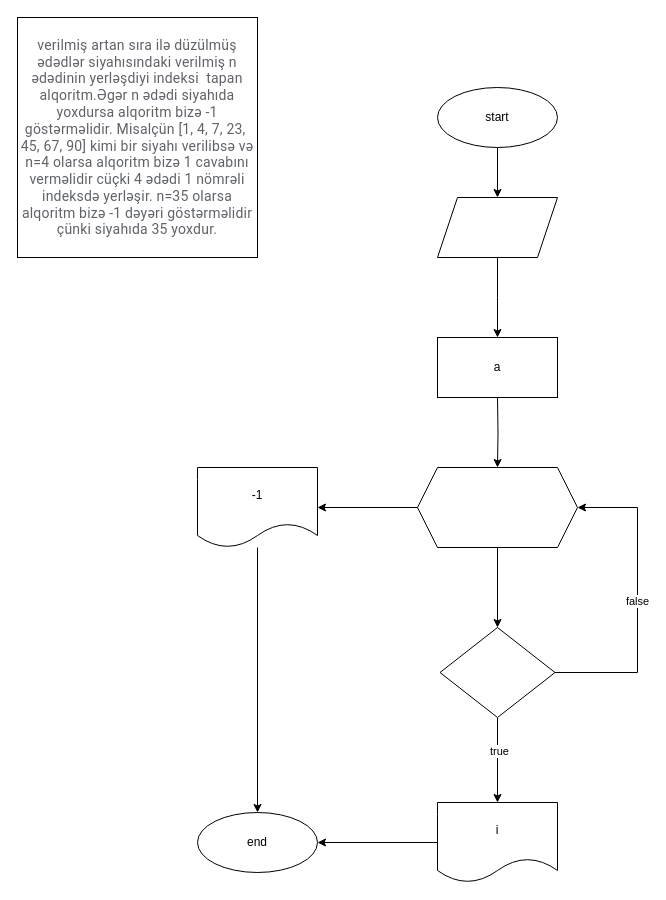
This 666x900 diagram has some shape labels left out. Each missing label, with the centre of its shape:
i=0;i<nums.lengths;i++: point (497, 507)
num[i]==a: point (497, 672)
nums: point (497, 227)
